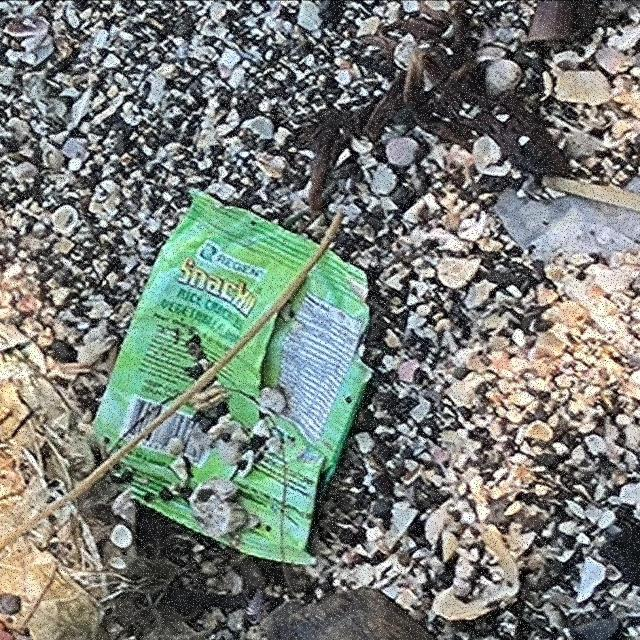plastic_waste: (90, 185, 376, 567)
